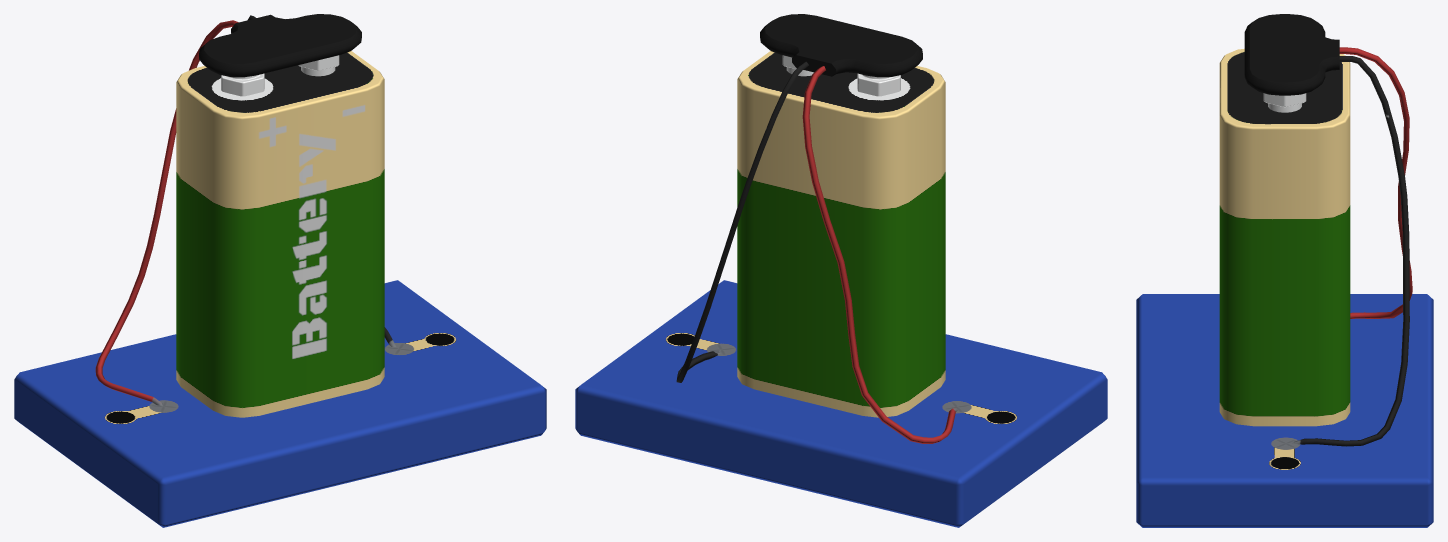
Rendered from Battery.fbx.
3 views of the same model, side by side, from view 1: azimuth 30°, elevation 25°; view 2: azimuth 150°, elevation 25°; view 3: azimuth 270°, elevation 25° (orthographic).
Parts seen in each view (by area): view 1: Battery; view 2: Battery; view 3: Battery.
Part boxes in pixels (<box>): Battery: <box>14,14,546,527</box>; Battery: <box>575,14,1107,527</box>; Battery: <box>1136,14,1433,527</box>.
Size of the model in its own units: 6 by 5.75 by 4.
